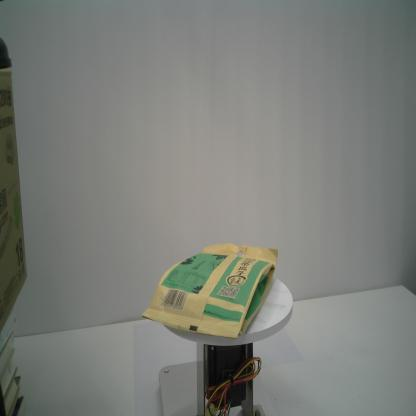Dried Food: (140, 240, 278, 343)
